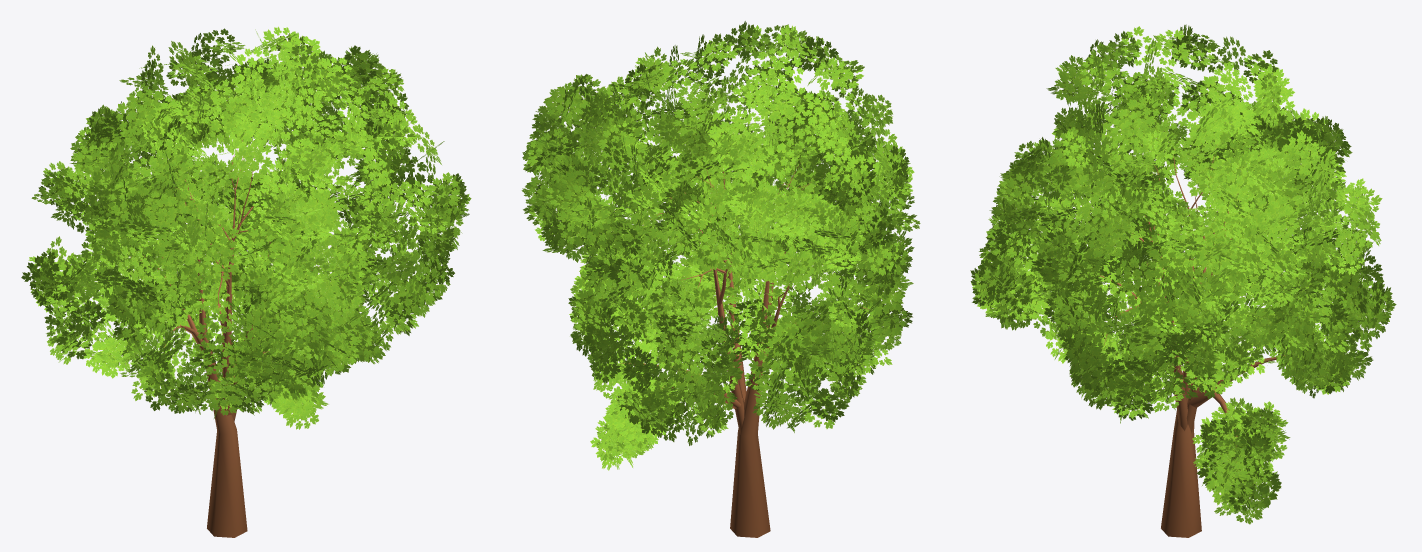
Rendered from tree3_2.fbx.
The picture shows the model from 3 angles, left to right: view 1: azimuth 30°, elevation 25°; view 2: azimuth 150°, elevation 25°; view 3: azimuth 270°, elevation 25°; orthographic projection.
Parts seen in each view (by area): view 1: tree3_2; view 2: tree3_2; view 3: tree3_2.
Boxes of the visible parts, box(x1,y1,x2,y2) form: tree3_2: box(21, 26, 471, 537); tree3_2: box(521, 21, 920, 537); tree3_2: box(970, 24, 1396, 537).
Bounding box in the file's own units: 680 × 864 × 695.
